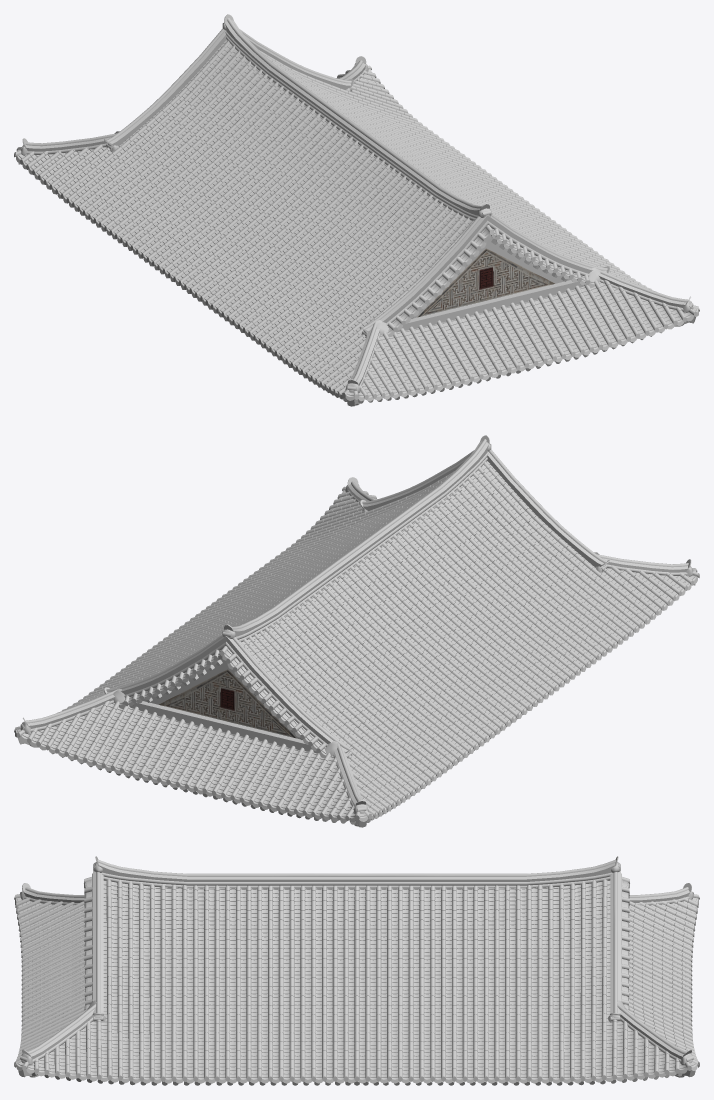
The model's file is SM_Roof06F.fbx.
The picture shows the model from 3 angles, top to bottom: view 1: azimuth 30°, elevation 25°; view 2: azimuth 150°, elevation 25°; view 3: azimuth 270°, elevation 25°; orthographic projection.
Visible parts, largest first — view 1: SM_Roof06F; view 2: SM_Roof06F; view 3: SM_Roof06F.
Boxes of the visible parts, x1,y1,x2,y2 form: SM_Roof06F: (14, 14, 699, 406); SM_Roof06F: (14, 435, 699, 827); SM_Roof06F: (14, 856, 699, 1085).
Size of the model in its own units: 1178 by 1940 by 463.
